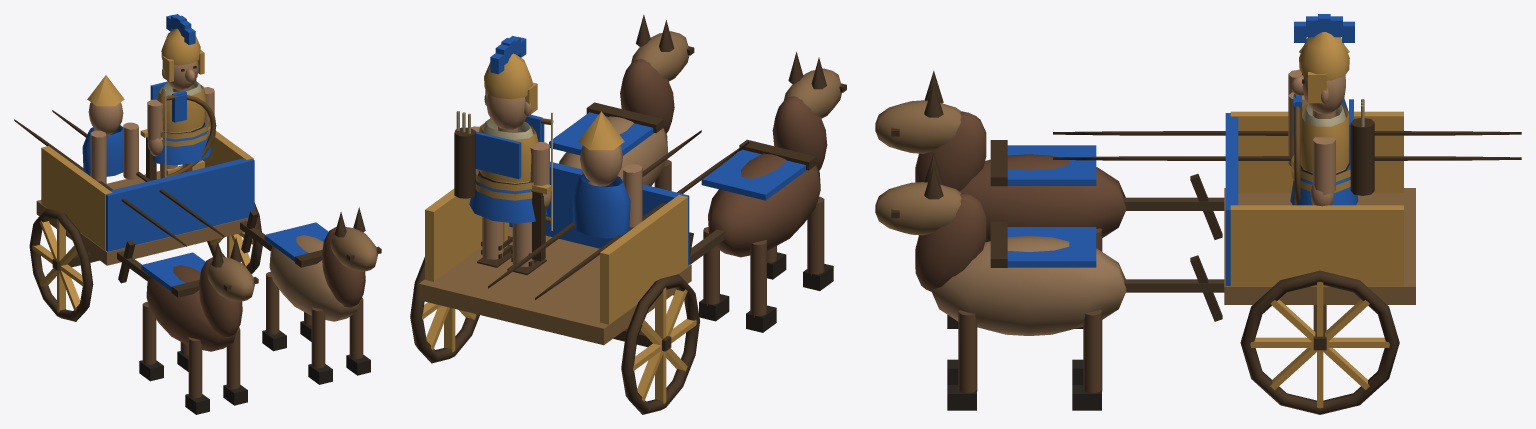
Rendered from chariot_team0.glb.
3 renders of one model, left to right at view 1: azimuth 30°, elevation 25°; view 2: azimuth 150°, elevation 25°; view 3: azimuth 270°, elevation 25°, orthographic. The views are drawn at different scales.
Parts seen in each view (by area): view 1: part_23, part_24, part_21, part_11, part_12, part_1, part_19, part_15, part_13, part_0, part_17, part_16 (+4 smaller); view 2: part_23, part_24, part_21, part_11, part_0, part_13, part_1, part_15, part_12, part_14, part_7, part_5 (+4 smaller); view 3: part_23, part_24, part_21, part_11, part_0, part_1, part_18, part_20, part_12, part_4, part_2.
Boxes of the visible parts, left/top/right/bottom form: part_23: left=29, top=158, right=381, bottom=351; part_24: left=32, top=131, right=253, bottom=312; part_21: left=14, top=102, right=224, bottom=246; part_11: left=150, top=79, right=212, bottom=165; part_12: left=156, top=84, right=209, bottom=146; part_1: left=161, top=28, right=204, bottom=81; part_19: left=308, top=307, right=332, bottom=384; part_15: left=185, top=337, right=209, bottom=414; part_13: left=139, top=302, right=163, bottom=381; part_0: left=162, top=14, right=198, bottom=89; part_17: left=262, top=272, right=286, bottom=351; part_16: left=223, top=327, right=247, bottom=405; part_23: left=410, top=14, right=846, bottom=414; part_24: left=422, top=188, right=696, bottom=403; part_21: left=488, top=130, right=748, bottom=299; part_11: left=454, top=111, right=546, bottom=223; part_0: left=484, top=36, right=532, bottom=129; part_13: left=746, top=240, right=776, bottom=332; part_1: left=484, top=53, right=537, bottom=115; part_15: left=803, top=196, right=833, bottom=290; part_12: left=475, top=123, right=538, bottom=200; part_14: left=699, top=227, right=729, bottom=321; part_7: left=477, top=217, right=512, bottom=267; part_5: left=507, top=222, right=546, bottom=275; part_23: left=875, top=70, right=1415, bottom=414; part_24: left=1230, top=111, right=1403, bottom=408; part_21: left=1053, top=69, right=1521, bottom=166; part_11: left=1290, top=95, right=1374, bottom=205; part_0: left=1291, top=14, right=1354, bottom=114; part_1: left=1299, top=32, right=1349, bottom=103; part_18: left=1072, top=309, right=1102, bottom=410; part_20: left=947, top=310, right=977, bottom=410; part_12: left=1291, top=104, right=1350, bottom=192; part_4: left=1310, top=137, right=1335, bottom=206; part_2: left=1294, top=94, right=1300, bottom=205.
Size of the model in its own units: 2.02 by 2.85 by 4.55.
